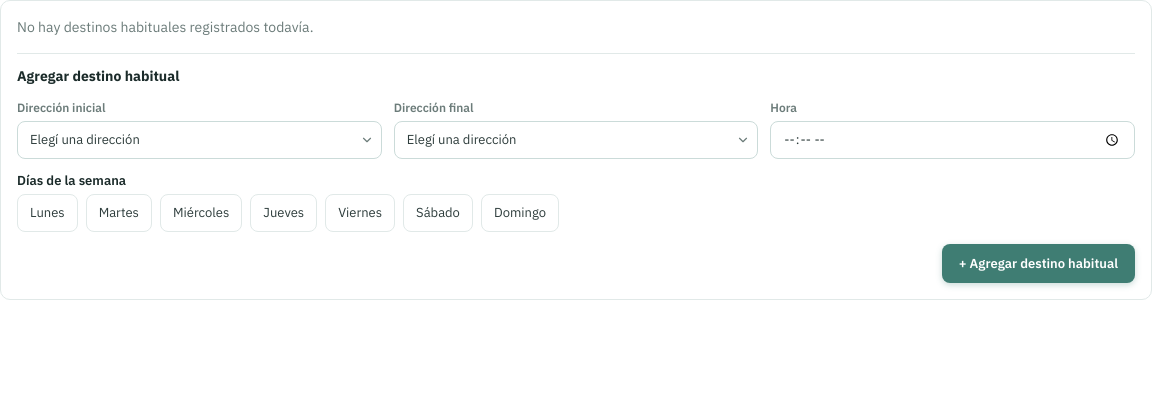
Test: RecorridosHabitualesEditor › si falla un día a mitad de camino, los ya creados quedan en la lista y se muestra el error
The width and height of the screenshot is (1152, 413).
Expected: the text "No hay destinos habituales registrados todavía." is shown, x1=17 y1=18 x2=314 y2=36
Select "Domicilio · Av. Siempreviva 742" in the dropdown labelled "Dirección inicial" at (199, 140), box x1=17 y1=121 x2=382 y2=158
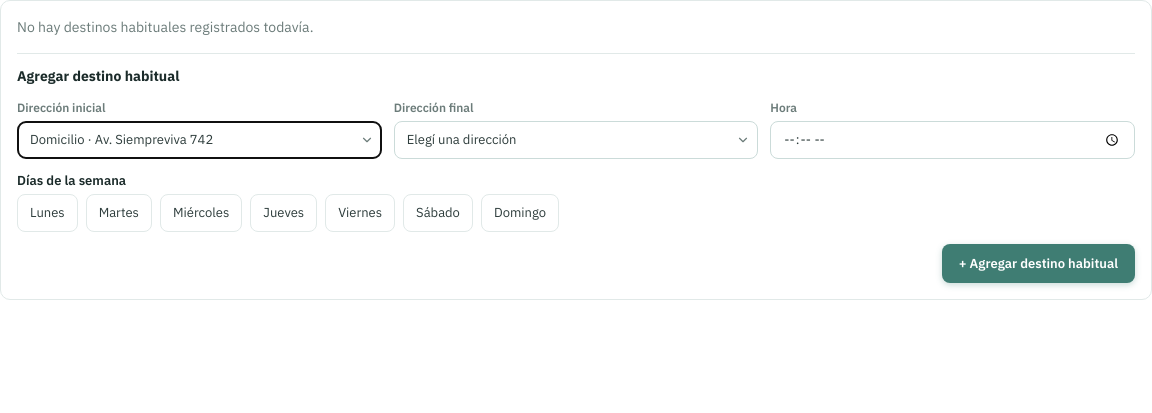
Select "Escuela · Belgrano 100" in the dropdown labelled "Dirección final" at (576, 140), box x1=394 y1=121 x2=758 y2=158
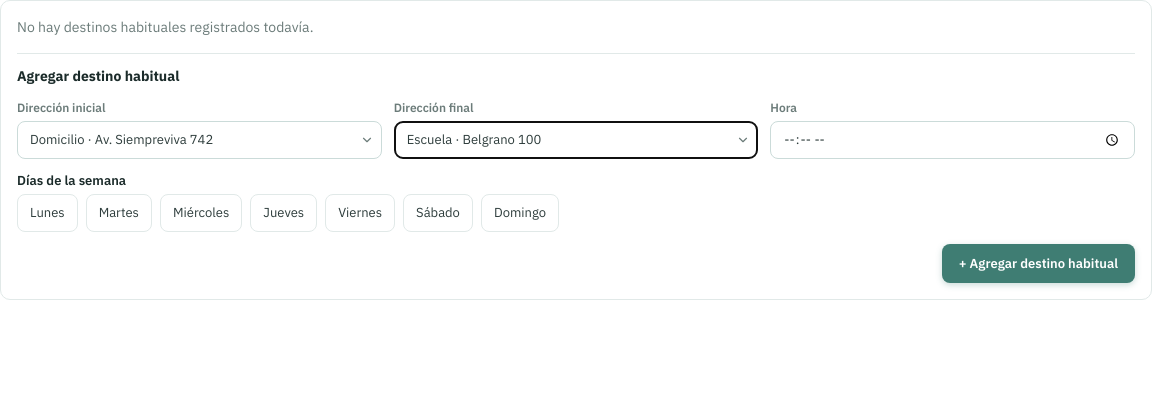
Click the checkbox labelled "Lunes" at (47, 213), box x1=17 y1=194 x2=78 y2=232
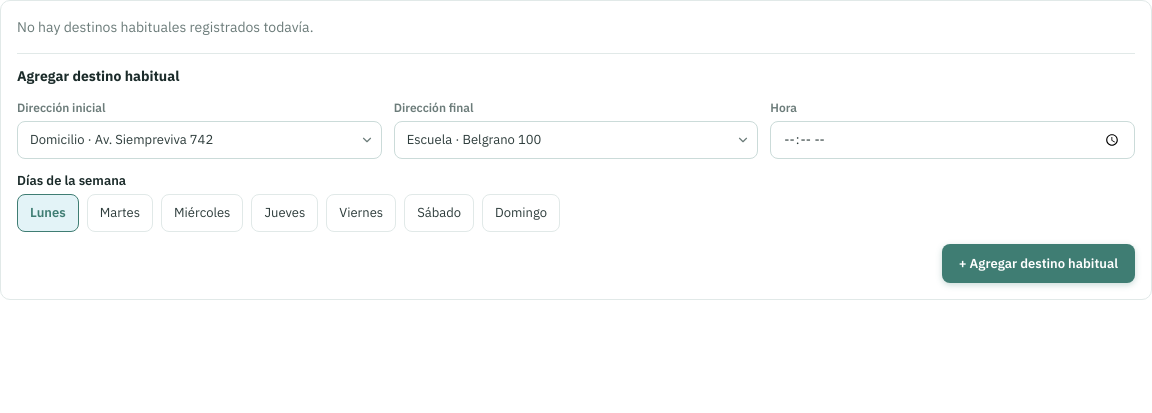
Click the checkbox labelled "Martes" at (120, 213), box x1=87 y1=194 x2=153 y2=232
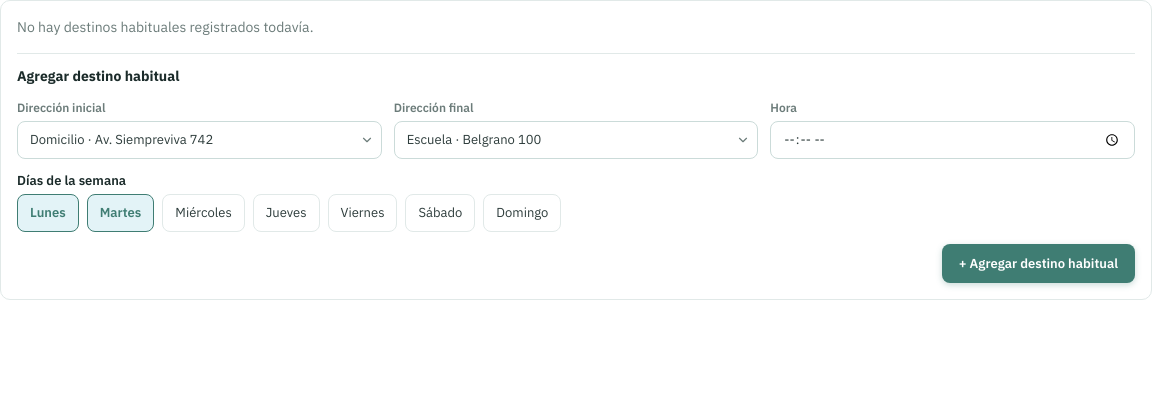
Type "08:00" into the time field labelled "Hora" at (953, 140), box x1=770 y1=121 x2=1135 y2=159
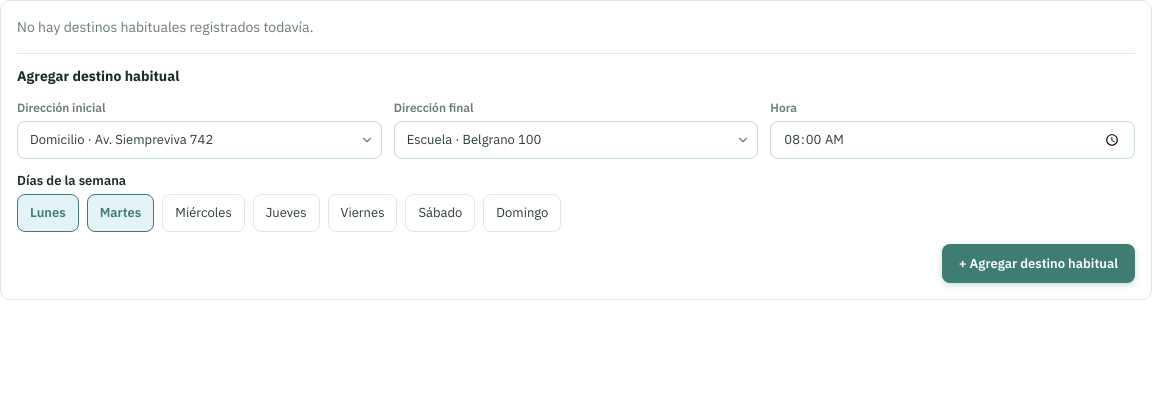
Click the button "+ Agregar destino habitual" at (1038, 263), box x1=942 y1=244 x2=1135 y2=283
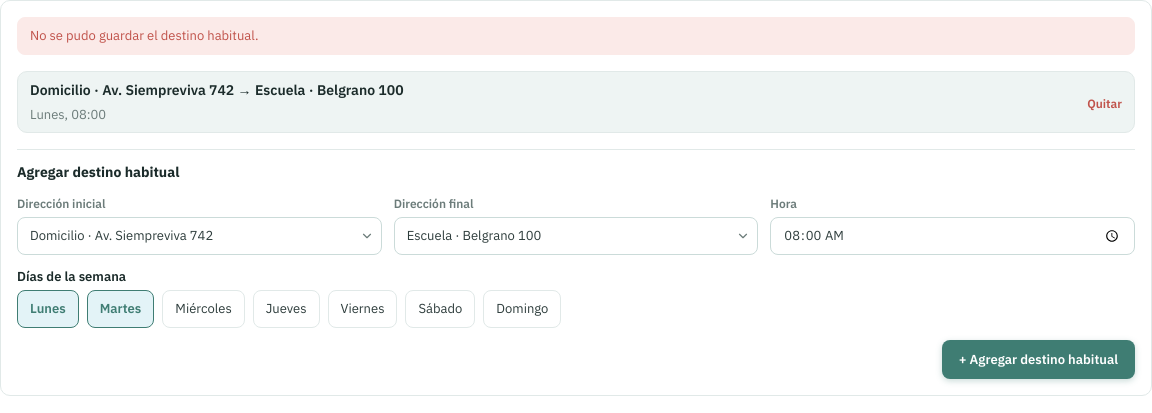
Now the text "No se pudo guardar el destino habitual." is shown, box x1=17 y1=17 x2=1135 y2=54
Now the text "Lunes, 08:00" is shown, box x1=30 y1=106 x2=106 y2=122
